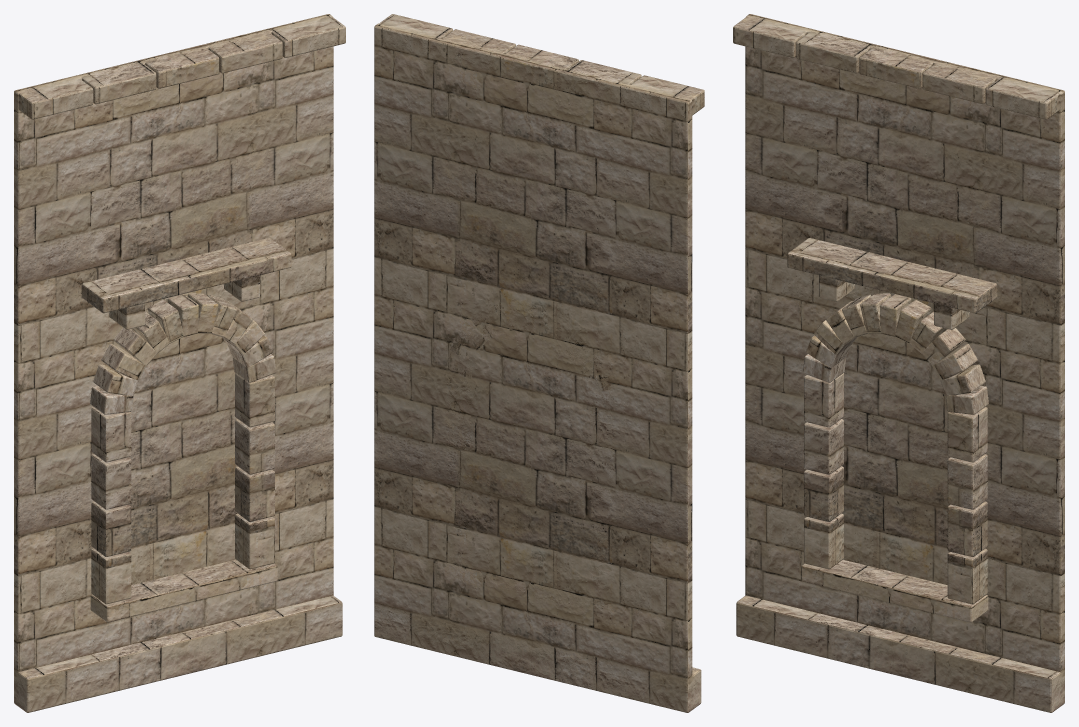
The model's file is spawn-b-west.glb.
3 renders of one model, left to right at view 1: azimuth 30°, elevation 25°; view 2: azimuth 150°, elevation 25°; view 3: azimuth 330°, elevation 25°, orthographic.
Visible parts, largest first — view 1: Continuous stone face; view 2: Continuous stone face; view 3: Continuous stone face.
Part boxes in pixels (x1,y1,x2,y2): Continuous stone face: (14, 14, 345, 712); Continuous stone face: (374, 14, 704, 712); Continuous stone face: (733, 14, 1064, 712).
Size of the model in its own units: 2.64 by 4.9 by 0.38.
Materials: 1 (1 with a texture image).
